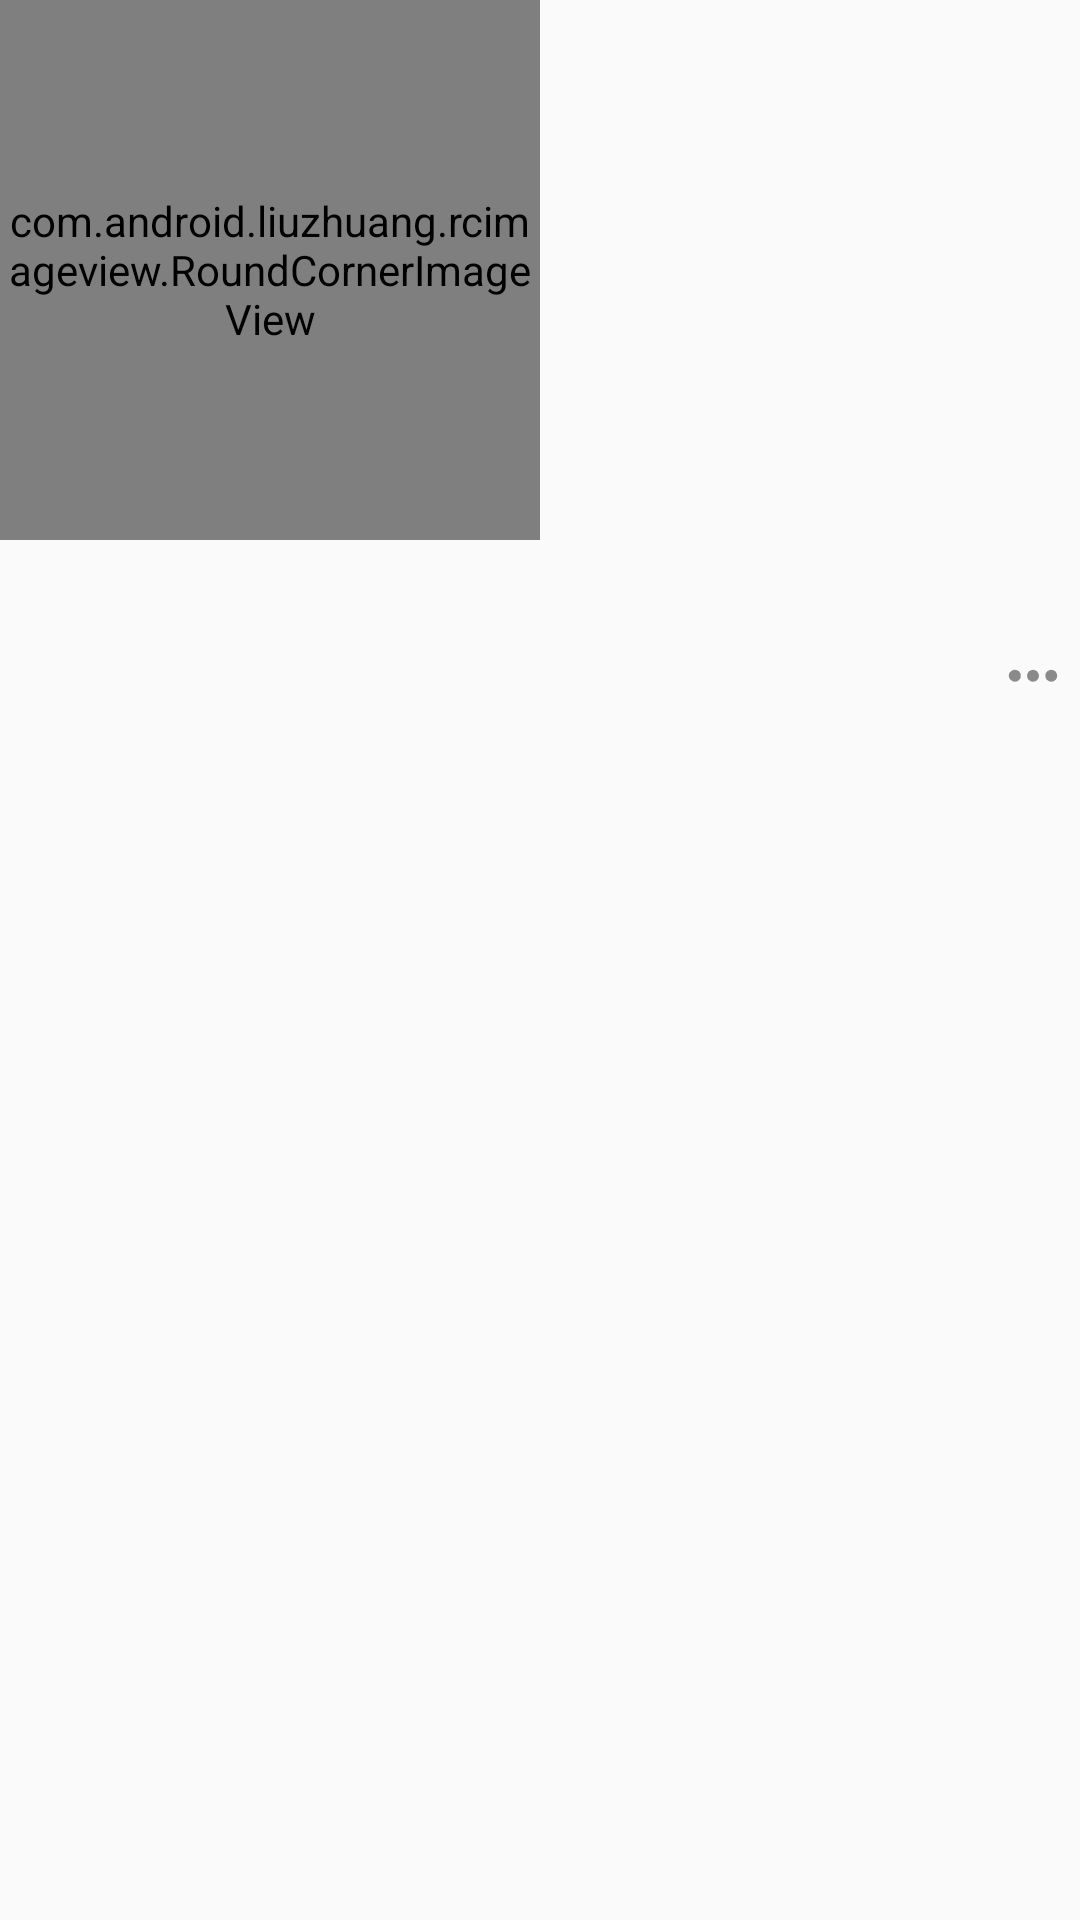

Icons on this 1080*1920 Android screen, each with the point to tap as point (x, y):
menu: point (1033, 676)
